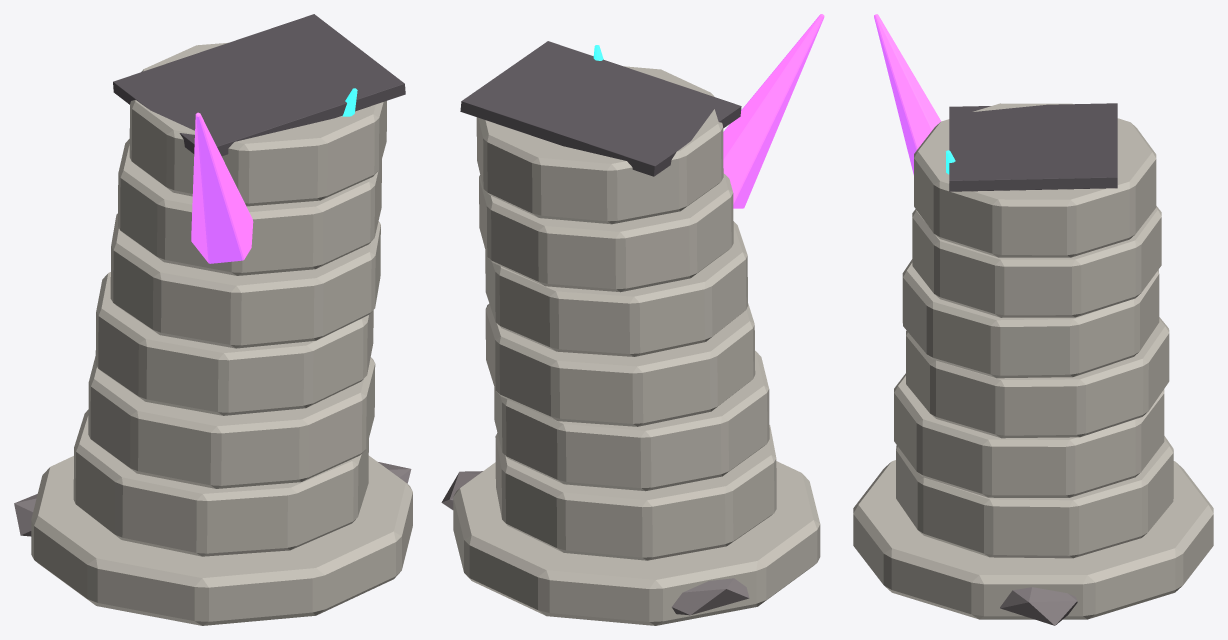
Rendered from runtime.glb.
The picture shows the model from 3 angles, left to right: view 1: azimuth 30°, elevation 25°; view 2: azimuth 150°, elevation 25°; view 3: azimuth 270°, elevation 25°; orthographic projection. The views are drawn at different scales.
Parts seen in each view (by area): view 1: crystal-ruins-damaged-column-v10_base, crystal-ruins-damaged-column-v10_shaft_01, crystal-ruins-damaged-column-v10_fracture_00_nocol, crystal-ruins-damaged-column-v10_shaft_00, crystal-ruins-damaged-column-v10_shaft_03, crystal-ruins-damaged-column-v10_shaft_02, crystal-ruins-damaged-column-v10_shaft_05, crystal-ruins-damaged-column-v10_shaft_04, crystal-ruins-damaged-column-v10_crystal_01_nocol, crystal-ruins-damaged-column-v10_deposit_01_nocol; view 2: crystal-ruins-damaged-column-v10_base, crystal-ruins-damaged-column-v10_shaft_00, crystal-ruins-damaged-column-v10_fracture_00_nocol, crystal-ruins-damaged-column-v10_shaft_02, crystal-ruins-damaged-column-v10_shaft_01, crystal-ruins-damaged-column-v10_shaft_04, crystal-ruins-damaged-column-v10_shaft_03, crystal-ruins-damaged-column-v10_shaft_05, crystal-ruins-damaged-column-v10_crystal_01_nocol, crystal-ruins-damaged-column-v10_deposit_01_nocol; view 3: crystal-ruins-damaged-column-v10_base, crystal-ruins-damaged-column-v10_shaft_05, crystal-ruins-damaged-column-v10_shaft_00, crystal-ruins-damaged-column-v10_shaft_01, crystal-ruins-damaged-column-v10_shaft_02, crystal-ruins-damaged-column-v10_shaft_03, crystal-ruins-damaged-column-v10_shaft_04, crystal-ruins-damaged-column-v10_fracture_00_nocol, crystal-ruins-damaged-column-v10_crystal_01_nocol, crystal-ruins-damaged-column-v10_deposit_00_nocol.
Part boxes in pixels (bbox=[...]): crystal-ruins-damaged-column-v10_base: bbox=[31, 455, 412, 625]; crystal-ruins-damaged-column-v10_shaft_01: bbox=[88, 356, 375, 488]; crystal-ruins-damaged-column-v10_fracture_00_nocol: bbox=[113, 14, 405, 155]; crystal-ruins-damaged-column-v10_shaft_00: bbox=[73, 409, 368, 556]; crystal-ruins-damaged-column-v10_shaft_03: bbox=[110, 213, 380, 348]; crystal-ruins-damaged-column-v10_shaft_02: bbox=[95, 272, 373, 415]; crystal-ruins-damaged-column-v10_shaft_05: bbox=[129, 42, 386, 206]; crystal-ruins-damaged-column-v10_shaft_04: bbox=[118, 139, 381, 275]; crystal-ruins-damaged-column-v10_crystal_01_nocol: bbox=[191, 112, 253, 263]; crystal-ruins-damaged-column-v10_deposit_01_nocol: bbox=[14, 494, 37, 536]; crystal-ruins-damaged-column-v10_base: bbox=[453, 461, 820, 625]; crystal-ruins-damaged-column-v10_shaft_00: bbox=[495, 425, 776, 560]; crystal-ruins-damaged-column-v10_fracture_00_nocol: bbox=[460, 41, 741, 176]; crystal-ruins-damaged-column-v10_shaft_02: bbox=[485, 303, 755, 426]; crystal-ruins-damaged-column-v10_shaft_01: bbox=[494, 350, 769, 491]; crystal-ruins-damaged-column-v10_shaft_04: bbox=[479, 173, 733, 292]; crystal-ruins-damaged-column-v10_shaft_03: bbox=[485, 221, 747, 356]; crystal-ruins-damaged-column-v10_shaft_05: bbox=[476, 66, 723, 224]; crystal-ruins-damaged-column-v10_crystal_01_nocol: bbox=[723, 14, 824, 208]; crystal-ruins-damaged-column-v10_deposit_01_nocol: bbox=[672, 578, 749, 615]; crystal-ruins-damaged-column-v10_base: bbox=[853, 460, 1213, 619]; crystal-ruins-damaged-column-v10_shaft_05: bbox=[914, 103, 1156, 257]; crystal-ruins-damaged-column-v10_shaft_00: bbox=[896, 436, 1173, 558]; crystal-ruins-damaged-column-v10_shaft_01: bbox=[894, 373, 1164, 497]; crystal-ruins-damaged-column-v10_shaft_02: bbox=[906, 317, 1169, 438]; crystal-ruins-damaged-column-v10_shaft_03: bbox=[902, 259, 1159, 378]; crystal-ruins-damaged-column-v10_shaft_04: bbox=[912, 206, 1161, 317]; crystal-ruins-damaged-column-v10_fracture_00_nocol: bbox=[949, 103, 1117, 191]; crystal-ruins-damaged-column-v10_crystal_01_nocol: bbox=[874, 14, 941, 174]; crystal-ruins-damaged-column-v10_deposit_00_nocol: bbox=[1000, 587, 1077, 625].
Bounding box in the file's own units: 3.26 × 4.62 × 3.09.
